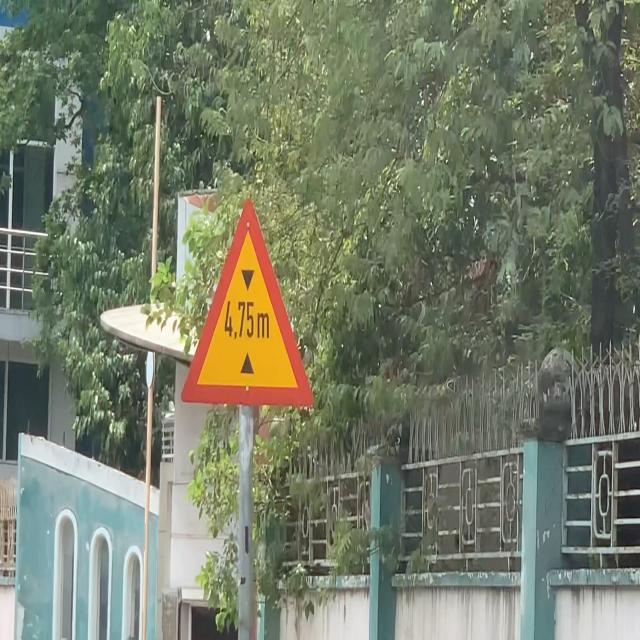Nguy hiem: (181, 197, 315, 408)
